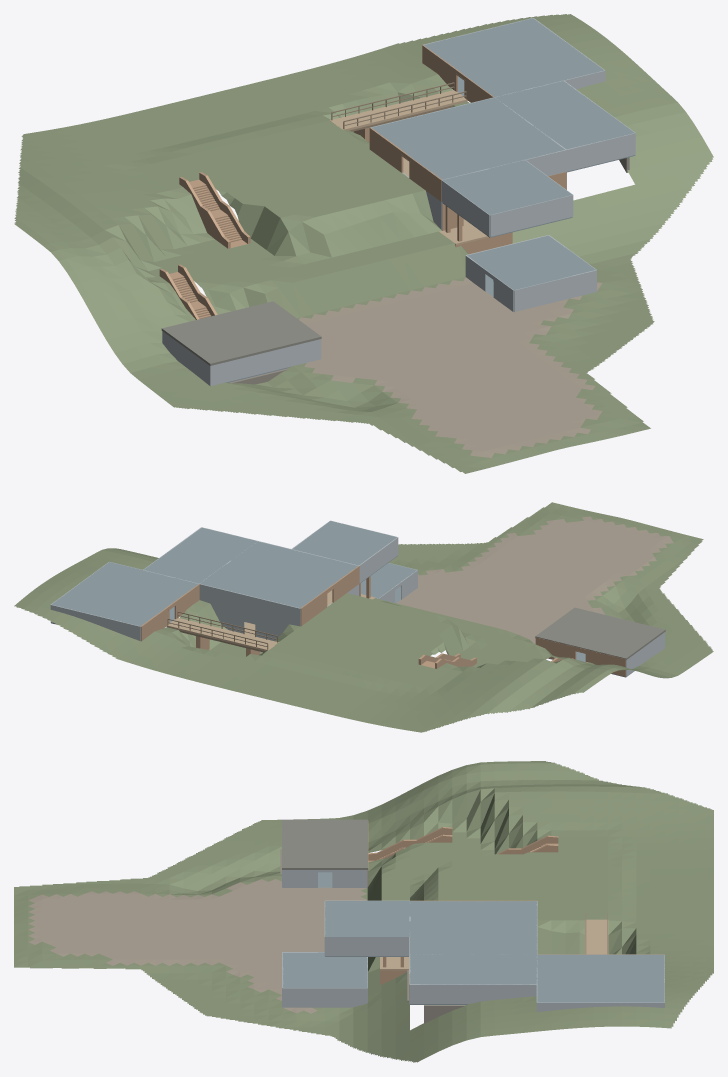
Rendered from canyon-marsh.glb.
The picture shows the model from 3 angles, top to bottom: view 1: azimuth 30°, elevation 25°; view 2: azimuth 150°, elevation 25°; view 3: azimuth 270°, elevation 25°; orthographic projection. The views are drawn at different scales.
Parts seen in each view (by area): view 1: WLD-03 saved ground, Ceiling cap gallery, Ceiling cap chamber, Red Mesa complete expedition shelter roof region0, Ceiling cap fork, Ceiling cap alcove, Ceiling cap wash, Wall shelter S, Wall wash S, Wall alcove S, Red Mesa chamber crossing deck region0, Wall fork S (+5 smaller); view 2: WLD-03 saved ground, Ceiling cap gallery, Ceiling cap chamber, Red Mesa complete expedition shelter roof region0, Ceiling cap fork, Ceiling cap alcove, Wall gallery N, Red Mesa chamber crossing deck region0, Ceiling cap wash, Wall chamber N, Wall alcove W, Wall shelter W (+8 smaller); view 3: WLD-03 saved ground, Ceiling cap gallery, Ceiling cap chamber, Red Mesa complete expedition shelter roof region0, Ceiling cap fork, Ceiling cap alcove, Ceiling cap wash, Wall fork E, Wall alcove E, Wall wash E, Red Mesa chamber crossing deck region0, Wall chamber E (+3 smaller).
Boxes of the visible parts, x1,y1,x2,y2 form: WLD-03 saved ground: [14, 14, 713, 473]; Ceiling cap gallery: [371, 97, 564, 179]; Ceiling cap chamber: [424, 18, 604, 96]; Red Mesa complete expedition shelter roof region0: [161, 301, 321, 365]; Ceiling cap fork: [495, 80, 634, 149]; Ceiling cap alcove: [442, 160, 572, 214]; Ceiling cap wash: [467, 235, 595, 290]; Wall shelter S: [210, 339, 320, 385]; Wall wash S: [514, 270, 596, 311]; Wall alcove S: [490, 195, 572, 236]; Red Mesa chamber crossing deck region0: [330, 90, 467, 130]; Wall fork S: [566, 133, 635, 171]; WLD-03 saved ground: [14, 502, 713, 732]; Ceiling cap gallery: [200, 541, 357, 608]; Ceiling cap chamber: [51, 562, 198, 626]; Red Mesa complete expedition shelter roof region0: [535, 607, 665, 659]; Ceiling cap fork: [144, 527, 257, 583]; Ceiling cap alcove: [292, 521, 396, 565]; Wall gallery N: [199, 583, 300, 626]; Red Mesa chamber crossing deck region0: [166, 618, 279, 651]; Ceiling cap wash: [361, 563, 416, 598]; Wall chamber N: [50, 604, 140, 641]; Wall alcove W: [359, 537, 398, 582]; Wall shelter W: [626, 632, 665, 676]; WLD-03 saved ground: [14, 761, 713, 1062]; Ceiling cap gallery: [410, 901, 537, 954]; Ceiling cap chamber: [537, 954, 664, 1002]; Red Mesa complete expedition shelter roof region0: [282, 819, 367, 869]; Ceiling cap fork: [410, 954, 537, 984]; Ceiling cap alcove: [325, 901, 409, 936]; Ceiling cap wash: [282, 952, 367, 987]; Wall fork E: [410, 984, 537, 1003]; Wall alcove E: [325, 937, 409, 956]; Wall wash E: [282, 988, 367, 1007]; Red Mesa chamber crossing deck region0: [585, 919, 608, 954]; Wall chamber E: [537, 1002, 664, 1012].
Size of the model in its own units: 91 by 12.65 by 99.
